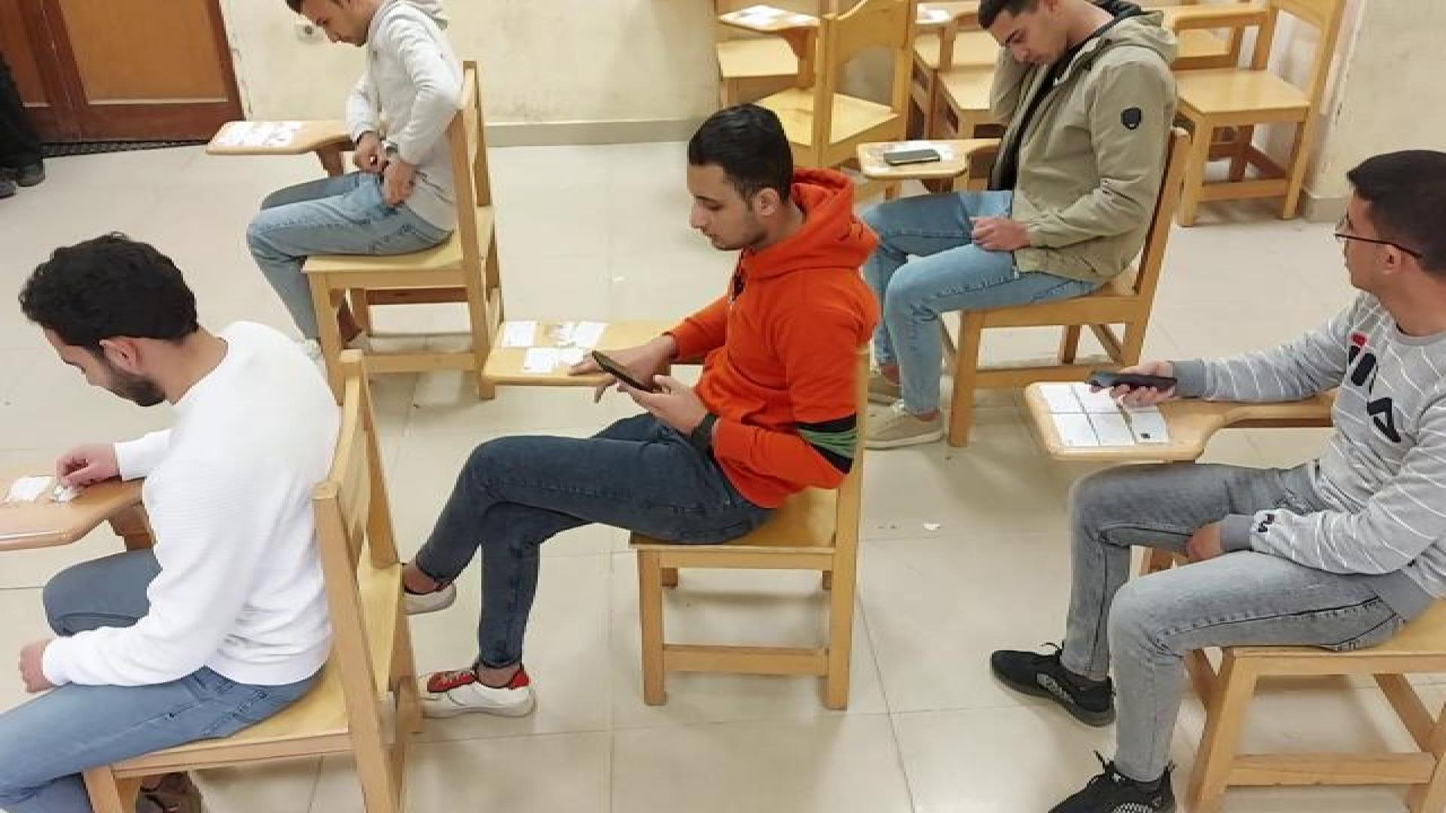phone: (590, 347, 664, 395), (1089, 362, 1179, 392), (882, 144, 939, 166)
